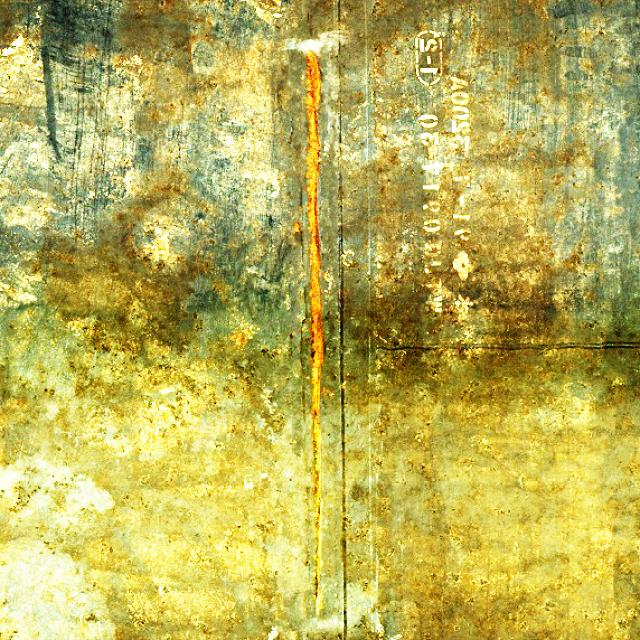Corrosion: (305, 47, 324, 611)
